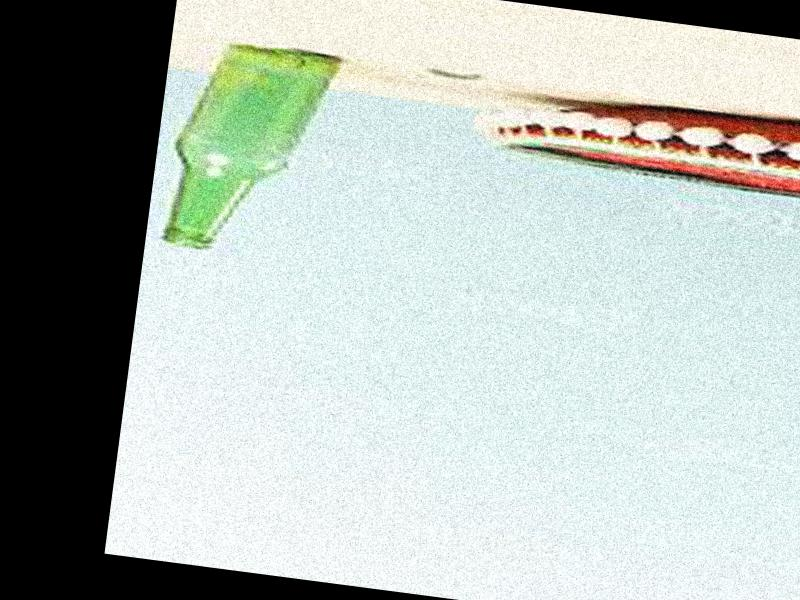Beer: (166, 32, 345, 266)
